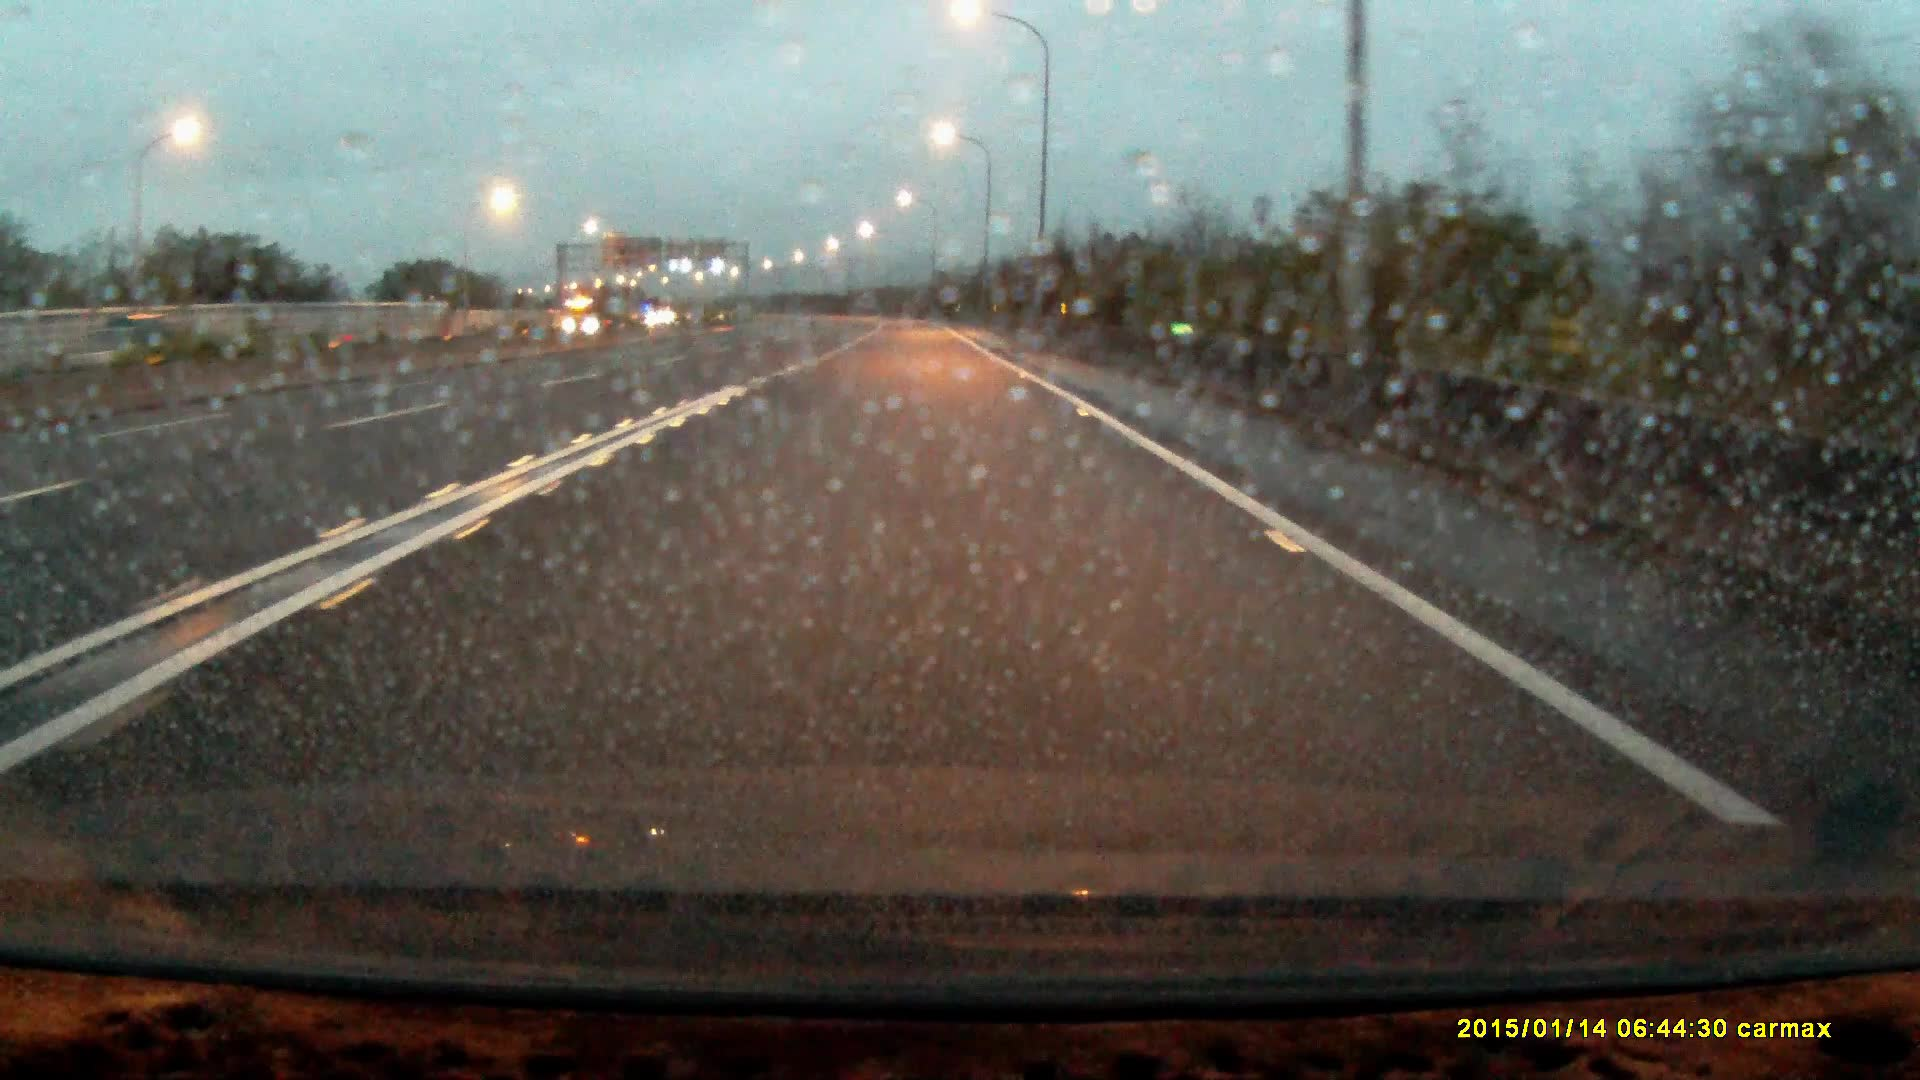vehicle: (560, 295, 613, 344)
